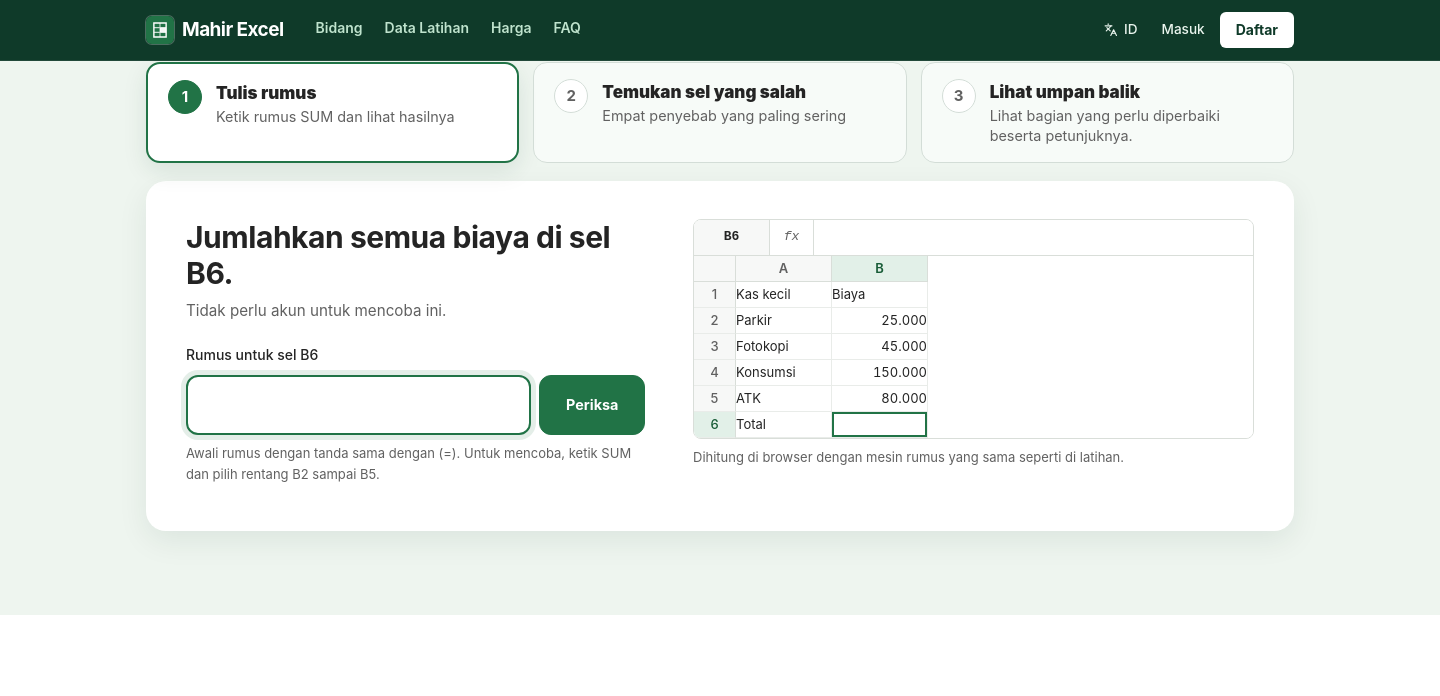
Test case: beranda pengunjung › coba satu rumus › galat rumus dijelaskan, dan kolom kosong diminta diisi
The width and height of the screenshot is (1440, 696).
(page scrolled)
Type "=FOO(1)" into the field labelled "Rumus untuk sel B6".
click(359, 405); type("=FOO(1)")  # box [186,375,531,435]
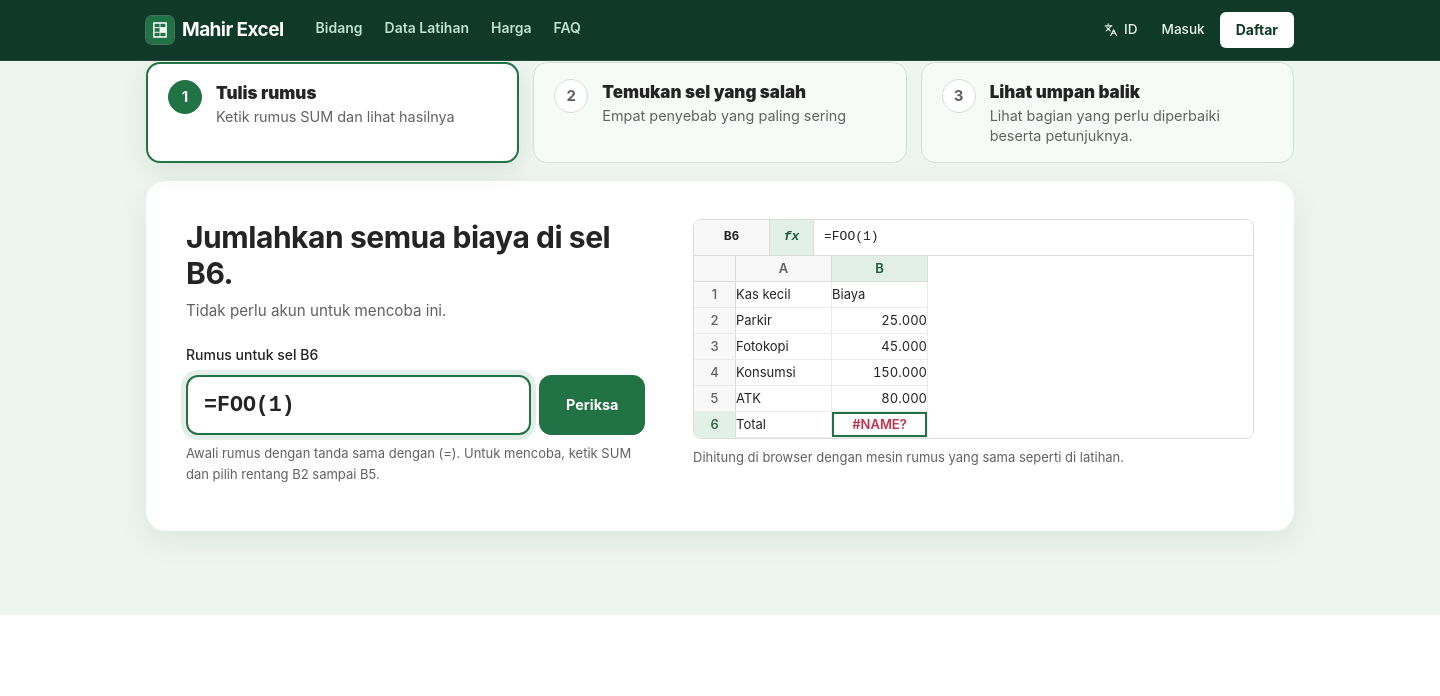
Click the button "Periksa".
click(592, 405)  # box [539,375,645,435]
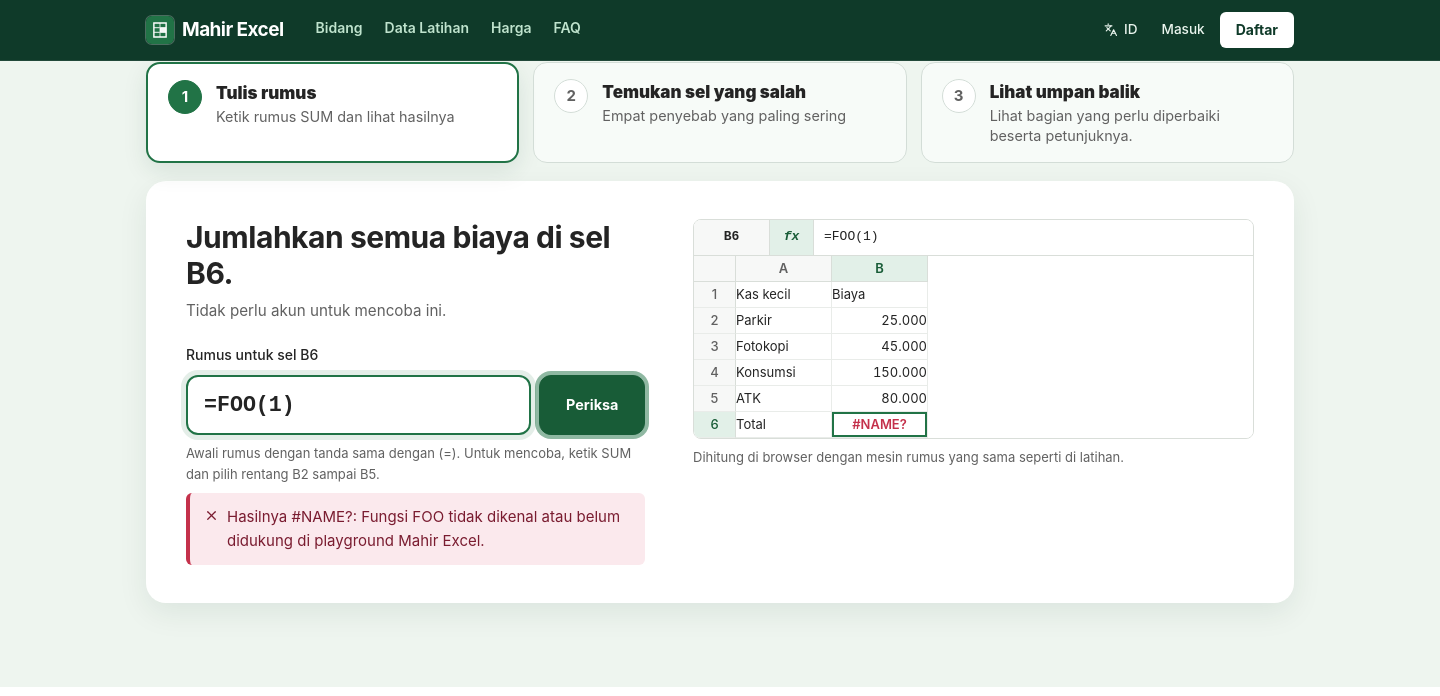
Result: the text "#NAME?" is shown at [227,507,620,550]
Clear the field labelled "Rumus untuk sel B6" at [359, 405], box [186,375,531,435]
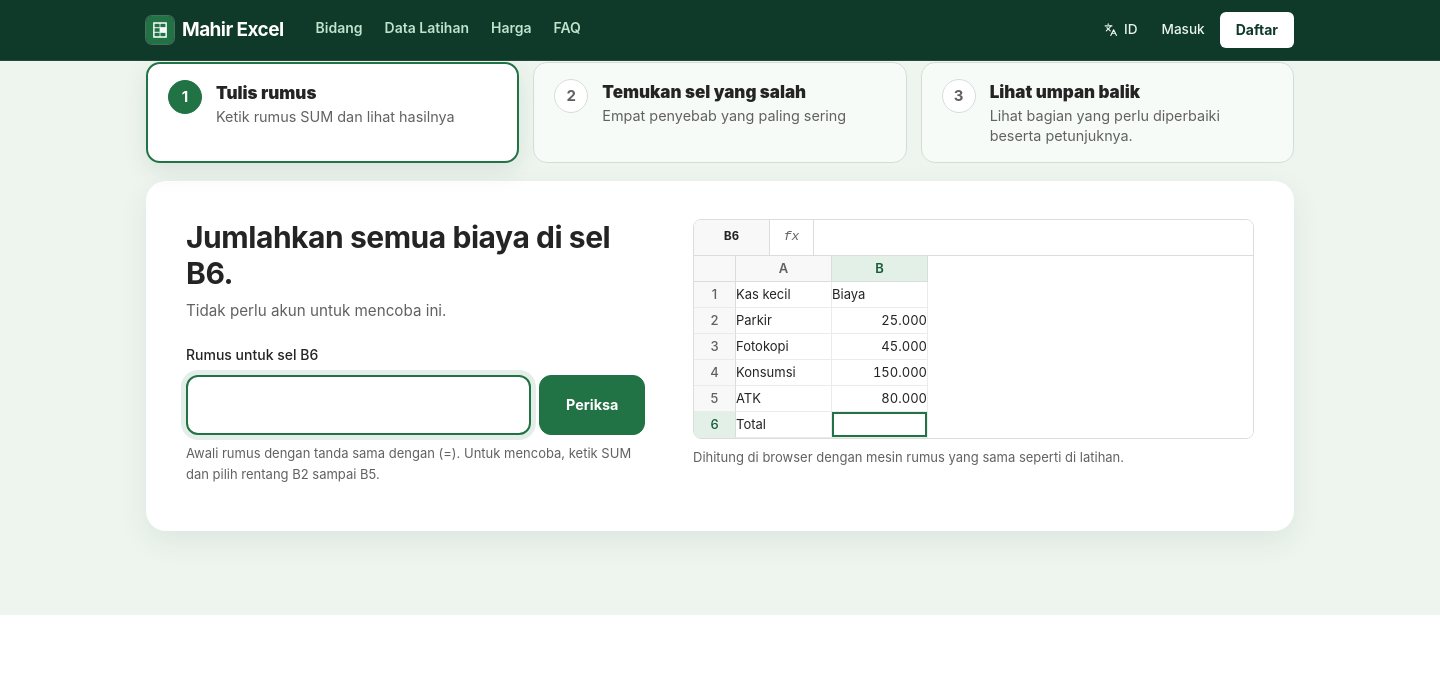
Click the button "Periksa".
click(592, 405)  # box [539,375,645,435]
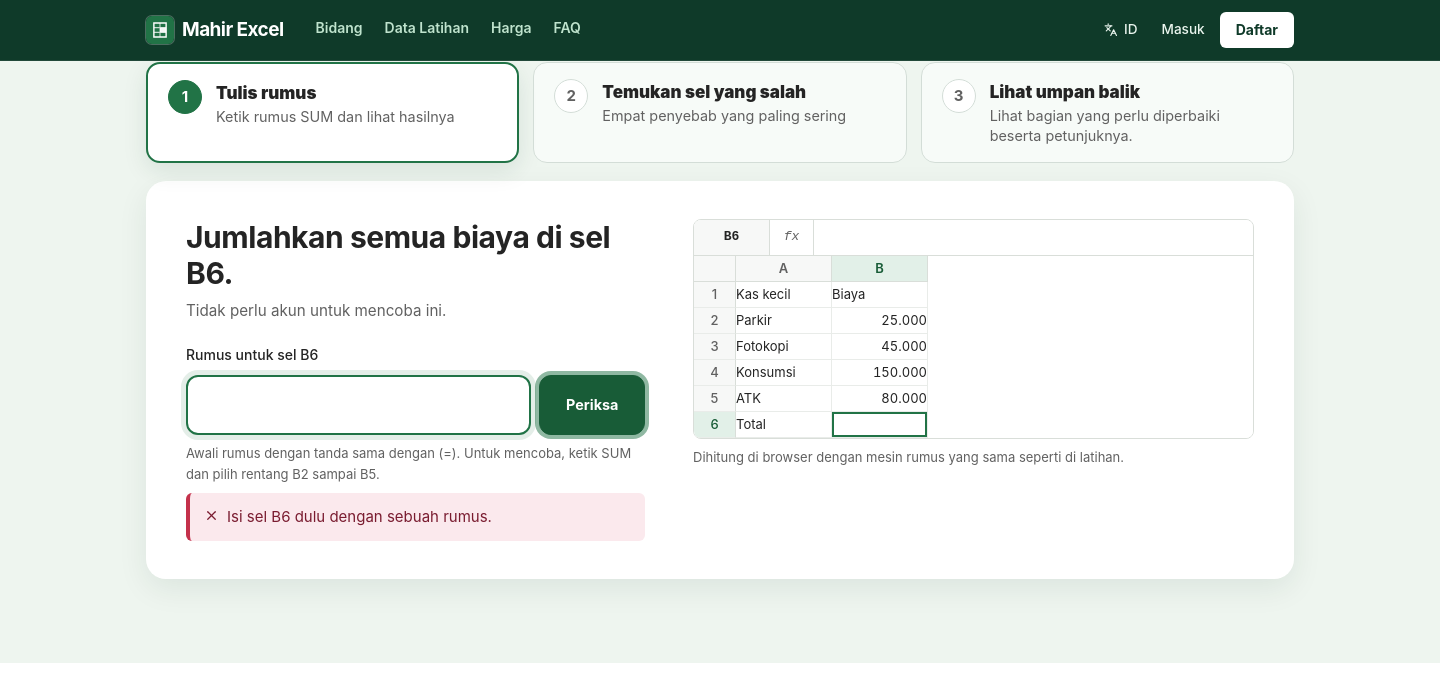
Result: the text "Isi sel B6 dulu dengan sebuah rumus." is shown at [186,493,645,541]
